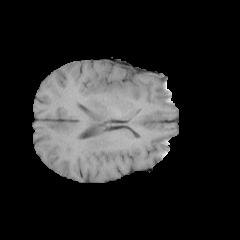glioma: (85, 69, 139, 109)
